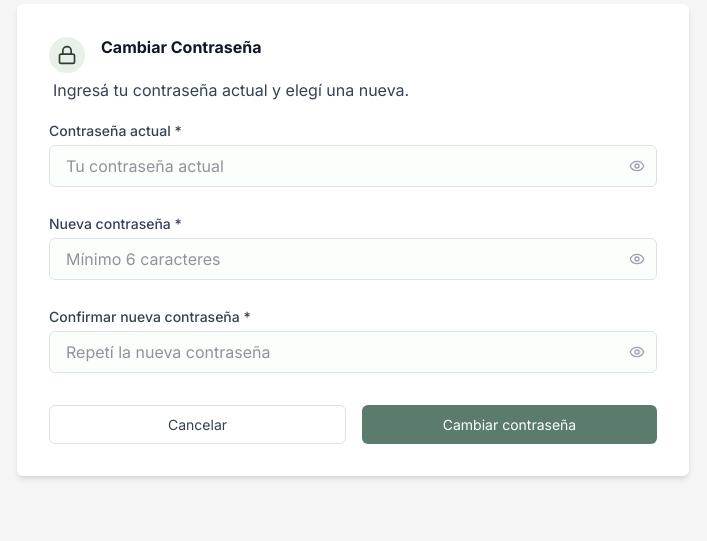
Test: ChangePassword › muestra error de validación: contraseñas no coinciden
The width and height of the screenshot is (707, 541).
In the password field with placeholder "Tu contraseña actual": (353, 166) [49, 145, 657, 187], type "oldpassword"
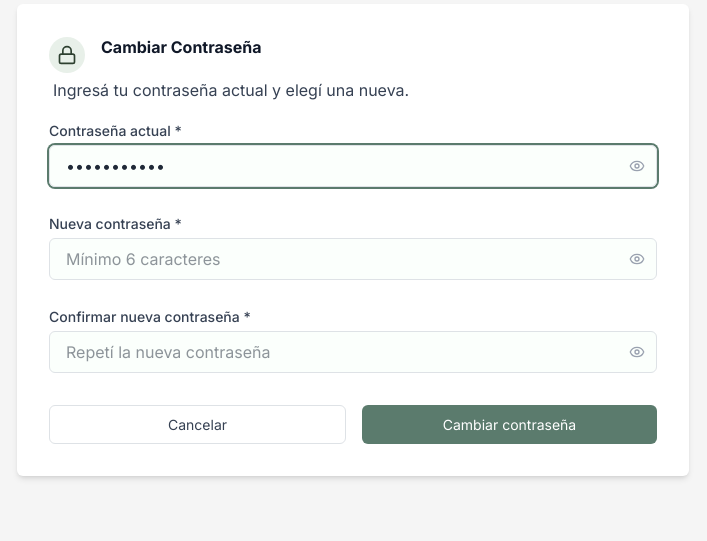
In the password field with placeholder "Mínimo 6 caracteres": (353, 259) [49, 238, 657, 280], type "newpass123"
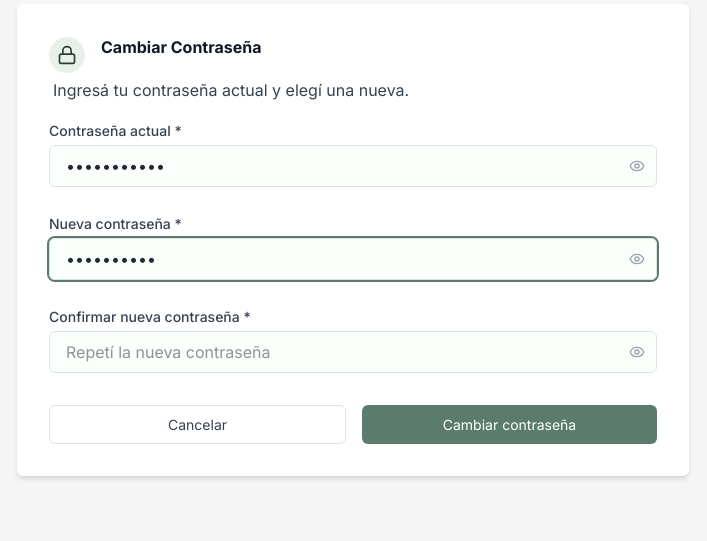
In the password field with placeholder "Repetí la nueva contraseña": (353, 352) [49, 331, 657, 373], type "differentpass"
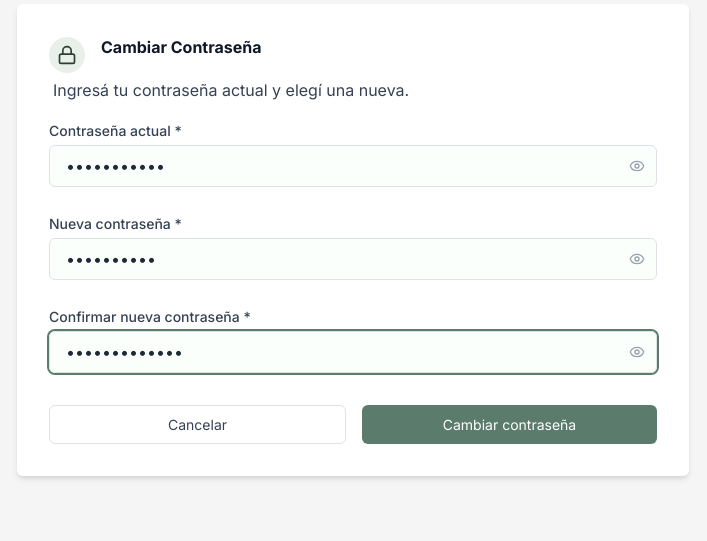
Click the button "Cambiar contraseña": (510, 425) [362, 405, 657, 444]
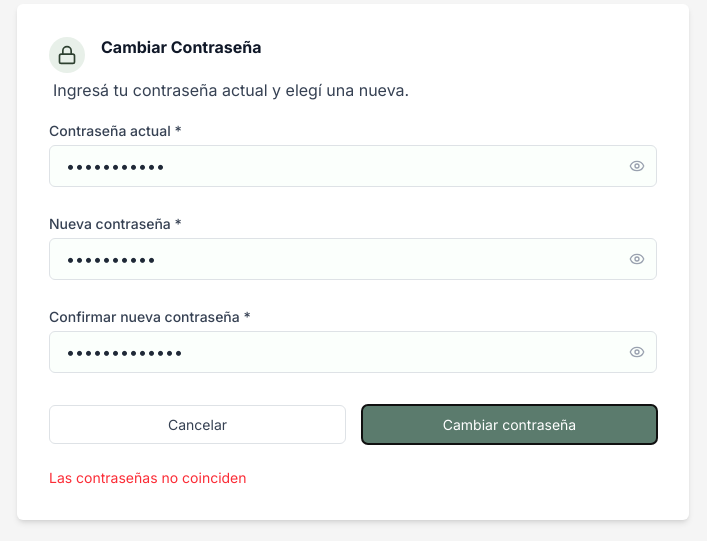
Now the text "Las contraseñas no coinciden" is shown, box [49, 469, 246, 486]
